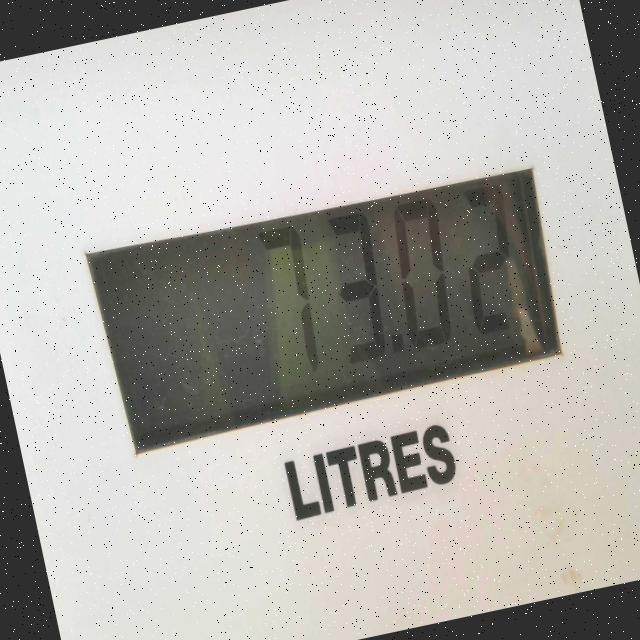.: (386, 329, 412, 366)
0: (375, 187, 473, 367)
2: (444, 170, 536, 350)
3: (308, 194, 392, 370)
7: (251, 214, 339, 380)
